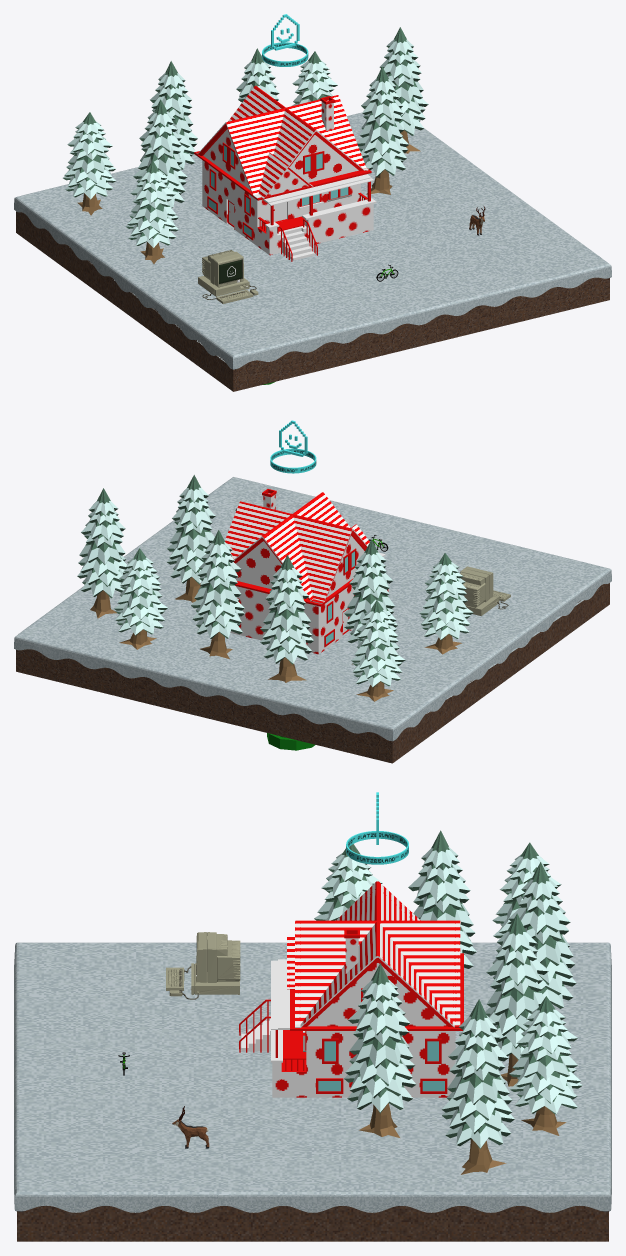
3 renders of one model, top to bottom at view 1: azimuth 30°, elevation 25°; view 2: azimuth 150°, elevation 25°; view 3: azimuth 270°, elevation 25°, orthographic. The views are drawn at different scales.
Parts seen in each view (by area): view 1: Cube.003, Cube.196, OBJRANDOM_RETRO_PC, TYPE_PREMIUM; view 2: Cube.003, Cube.196, OBJRANDOM_RETRO_PC, TYPE_PREMIUM, UNDERGROUND_PIPES; view 3: Cube.003, Cube.196, OBJRANDOM_RETRO_PC, TYPE_PREMIUM.
Part boxes in pixels (left/top/right/bottom): Cube.003: left=14, top=27, right=611, bottom=391; Cube.196: left=194, top=85, right=376, bottom=261; OBJRANDOM_RETRO_PC: left=198, top=250, right=258, bottom=303; TYPE_PREMIUM: left=262, top=14, right=308, bottom=66; Cube.003: left=14, top=475, right=611, bottom=763; Cube.196: left=225, top=489, right=388, bottom=654; OBJRANDOM_RETRO_PC: left=460, top=566, right=510, bottom=615; TYPE_PREMIUM: left=270, top=420, right=316, bottom=473; UNDERGROUND_PIPES: left=267, top=733, right=315, bottom=750; Cube.003: left=14, top=830, right=611, bottom=1241; Cube.196: left=239, top=881, right=463, bottom=1097; OBJRANDOM_RETRO_PC: left=166, top=932, right=240, bottom=999; TYPE_PREMIUM: left=346, top=792, right=408, bottom=864.
Size of the model in its own units: 4040 by 3051 by 4040.
30 materials, 5 textured.
